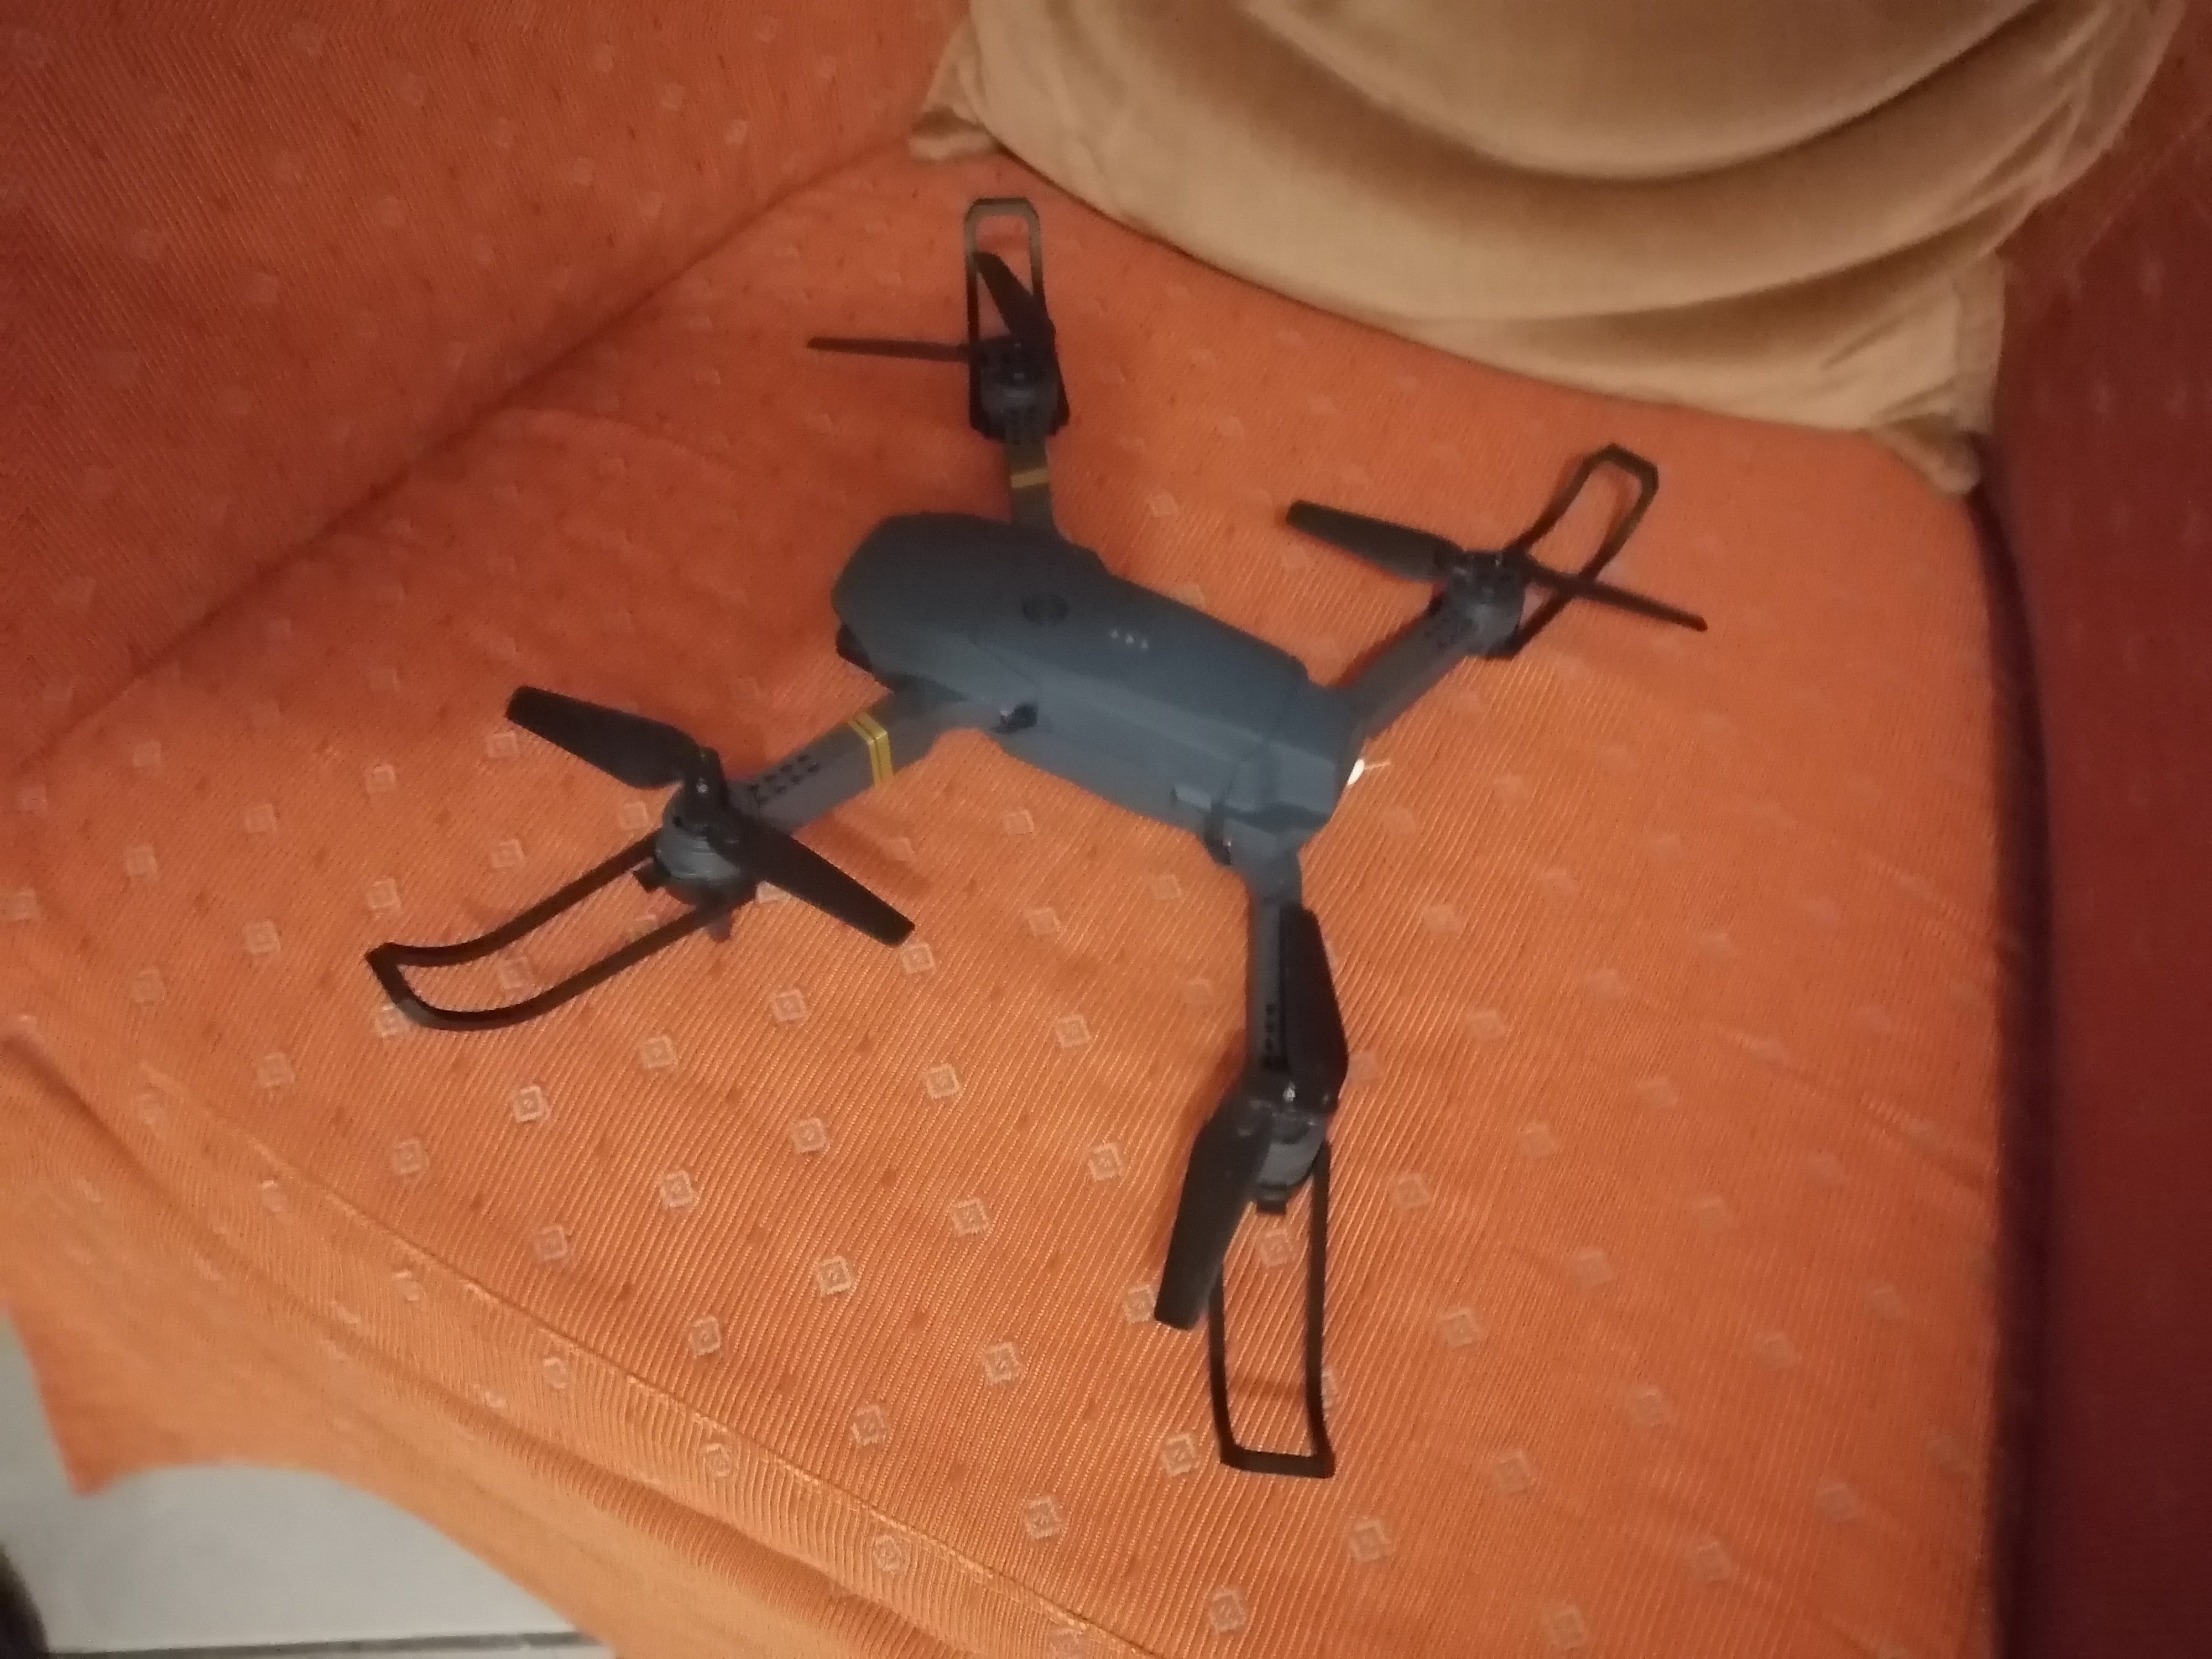drone: (554, 213, 1540, 1420)
